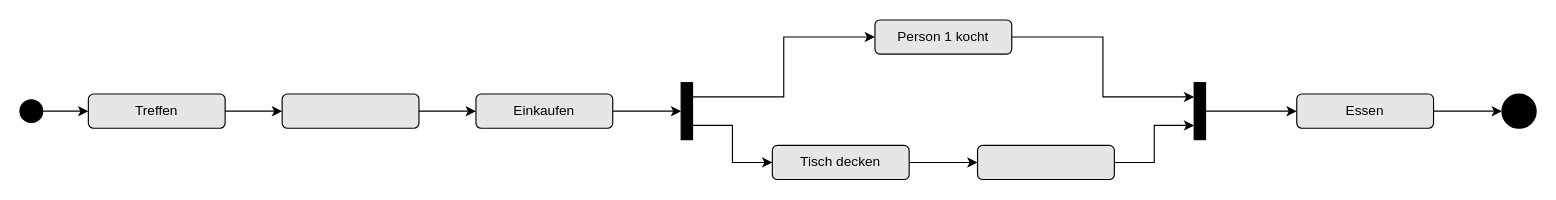
The diagram is 1556 pixels wide and 200 high, and some of its shapes have lost their labels. The shapes that lost their labels are listed below. From the top down, each one's centre as x and y in pixels, then its label:
At [350,110]: "Rezept suchen".
At [1045,162]: "Wein kühlen".
